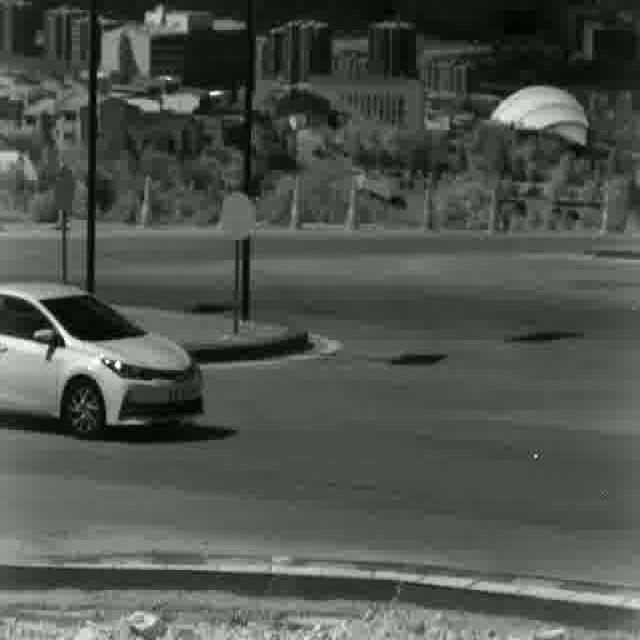Car: (0, 281, 206, 441)
